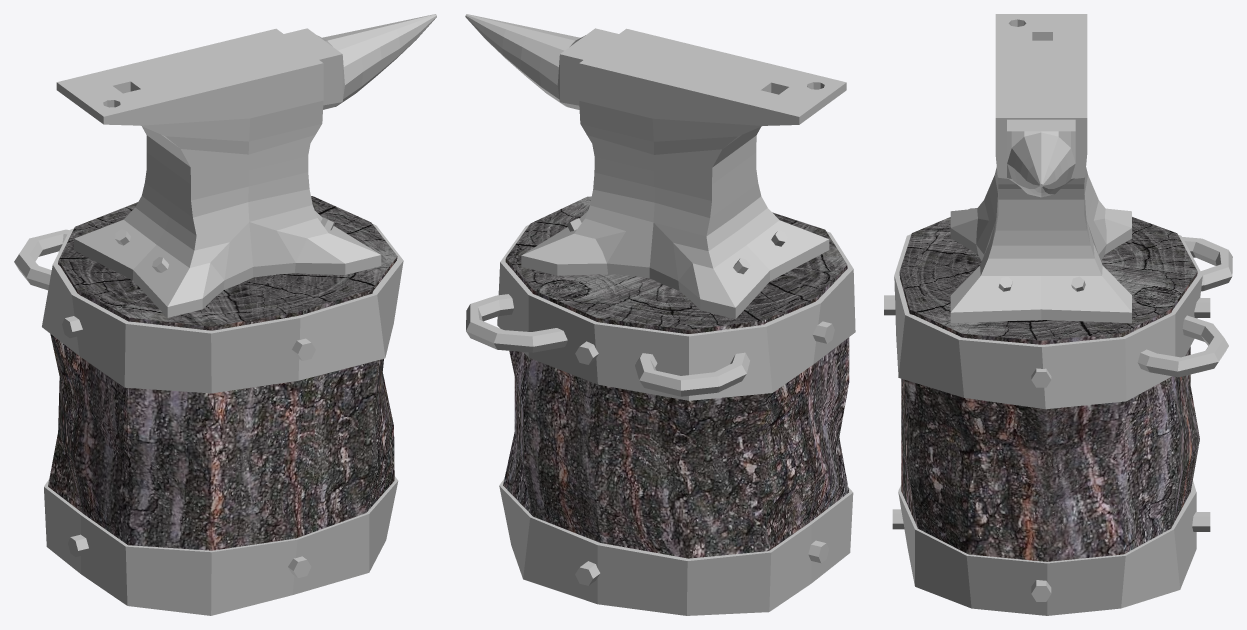
The model's file is Anvil.fbx.
The picture shows the model from 3 angles, left to right: view 1: azimuth 30°, elevation 25°; view 2: azimuth 150°, elevation 25°; view 3: azimuth 270°, elevation 25°; orthographic projection. The views are drawn at different scales.
Visible parts, largest first — view 1: AnvilStand, Anvil; view 2: AnvilStand, Anvil; view 3: AnvilStand, Anvil.
Part boxes in pixels (x1,y1,x2,y2): AnvilStand: (14, 196, 403, 615); Anvil: (56, 14, 436, 317); AnvilStand: (466, 196, 855, 615); Anvil: (465, 14, 846, 319); AnvilStand: (884, 208, 1232, 615); Anvil: (950, 14, 1131, 323).
Bounding box in the file's own units: 0.5821 × 0.7342 × 0.495.
